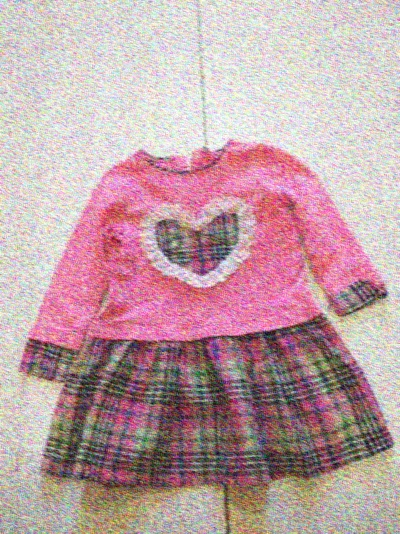Dress: (39, 124, 393, 502)
